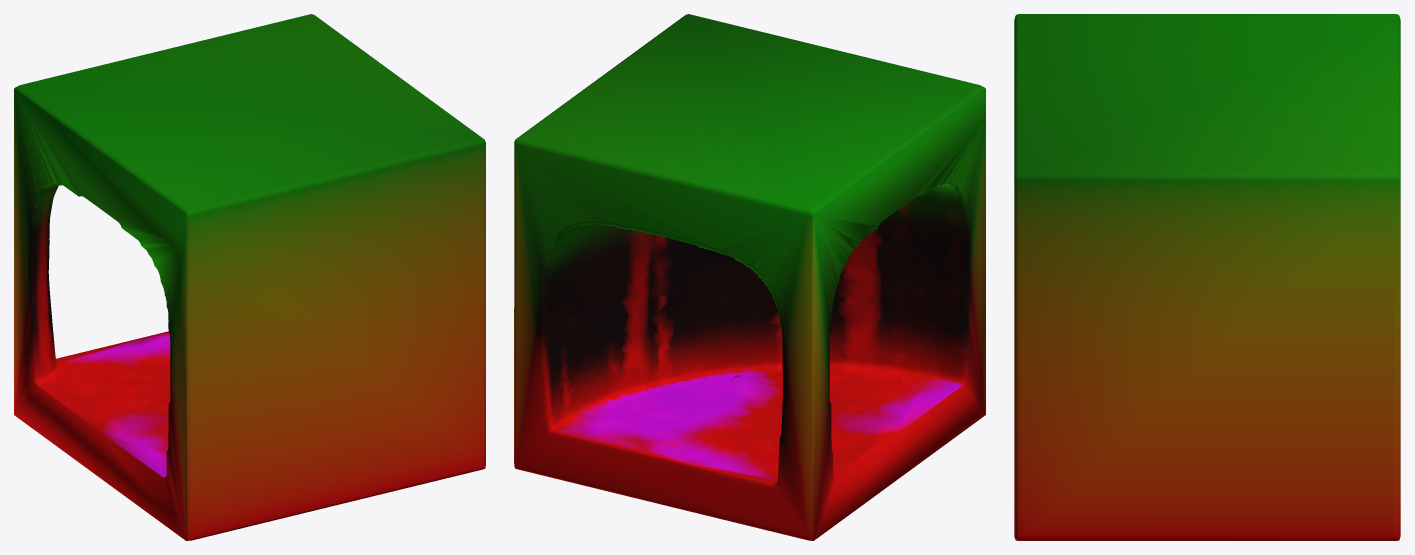
Rendered from SM_Mine_Tunnel_Turn.fbx.
3 views of the same model, side by side, from view 1: azimuth 30°, elevation 25°; view 2: azimuth 150°, elevation 25°; view 3: azimuth 270°, elevation 25° (orthographic). The views are drawn at different scales.
Parts seen in each view (by area): view 1: SM_Mine_Tunnel_Turn; view 2: SM_Mine_Tunnel_Turn; view 3: SM_Mine_Tunnel_Turn.
Part boxes in pixels (bbox=[...]): SM_Mine_Tunnel_Turn: bbox=[14, 14, 485, 540]; SM_Mine_Tunnel_Turn: bbox=[514, 14, 985, 540]; SM_Mine_Tunnel_Turn: bbox=[1014, 14, 1400, 540].
Bounding box in the file's own units: 4 × 4.2 × 4.
